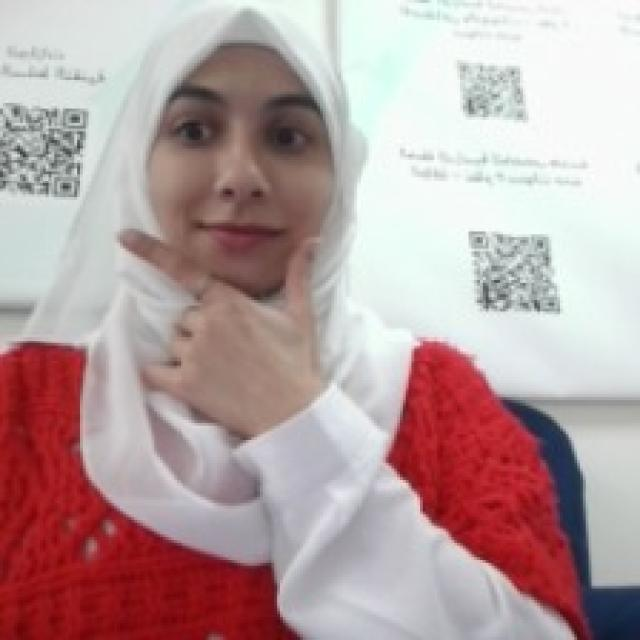smile: (109, 203, 328, 394)
